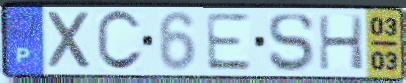6: (156, 9, 199, 74)
C: (94, 8, 146, 74)
E: (203, 11, 254, 73)
H: (316, 13, 367, 72)
S: (266, 11, 317, 74)
X: (45, 9, 95, 72)
